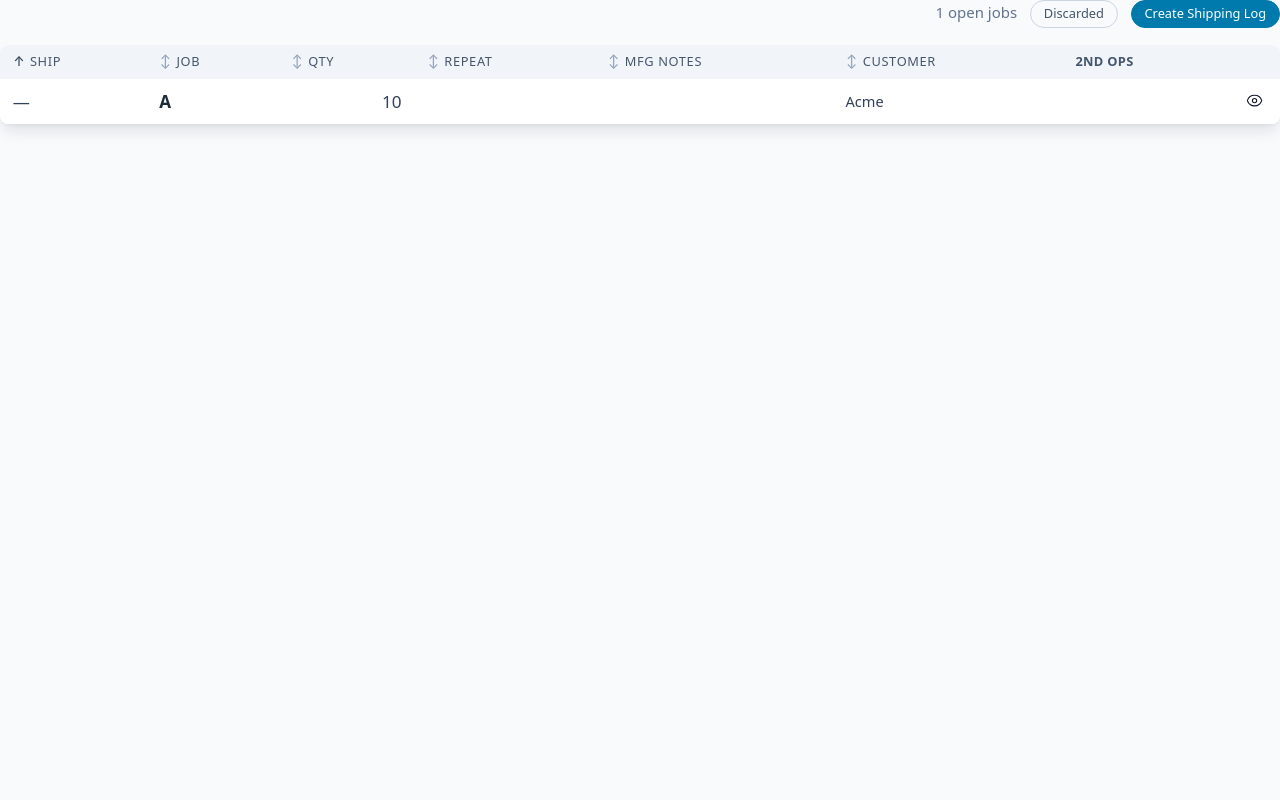
Test: ShippingView — Create Shipping Log › opens the log modal, which loads its own candidates, and closes it again
The image size is (1280, 800).
Click the button with test id "create-shipping-log-btn". click: (1205,14)
box: [1131, 0, 1279, 28]
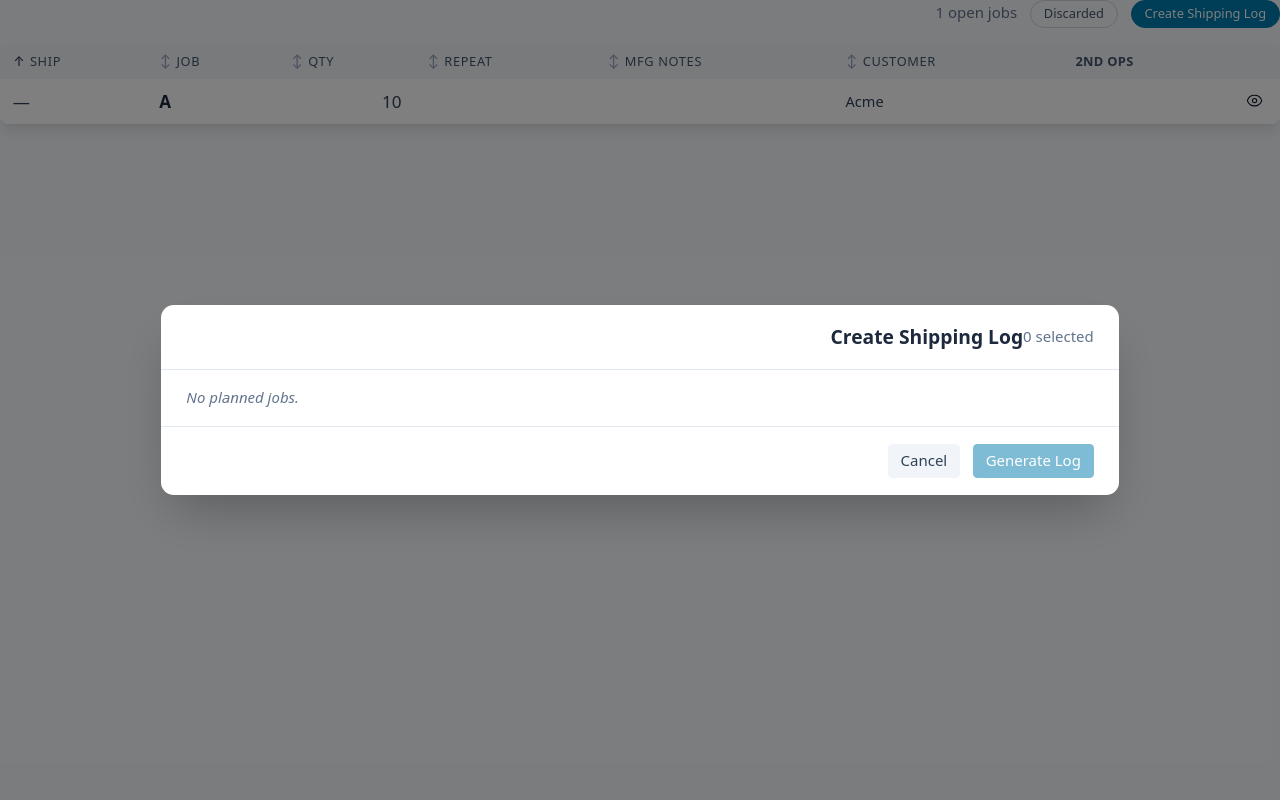
Expected: the element with test id "shipping-log-modal" is shown
Click the button with test id "shipping-log-cancel". click: (924,461)
box: [888, 444, 960, 478]
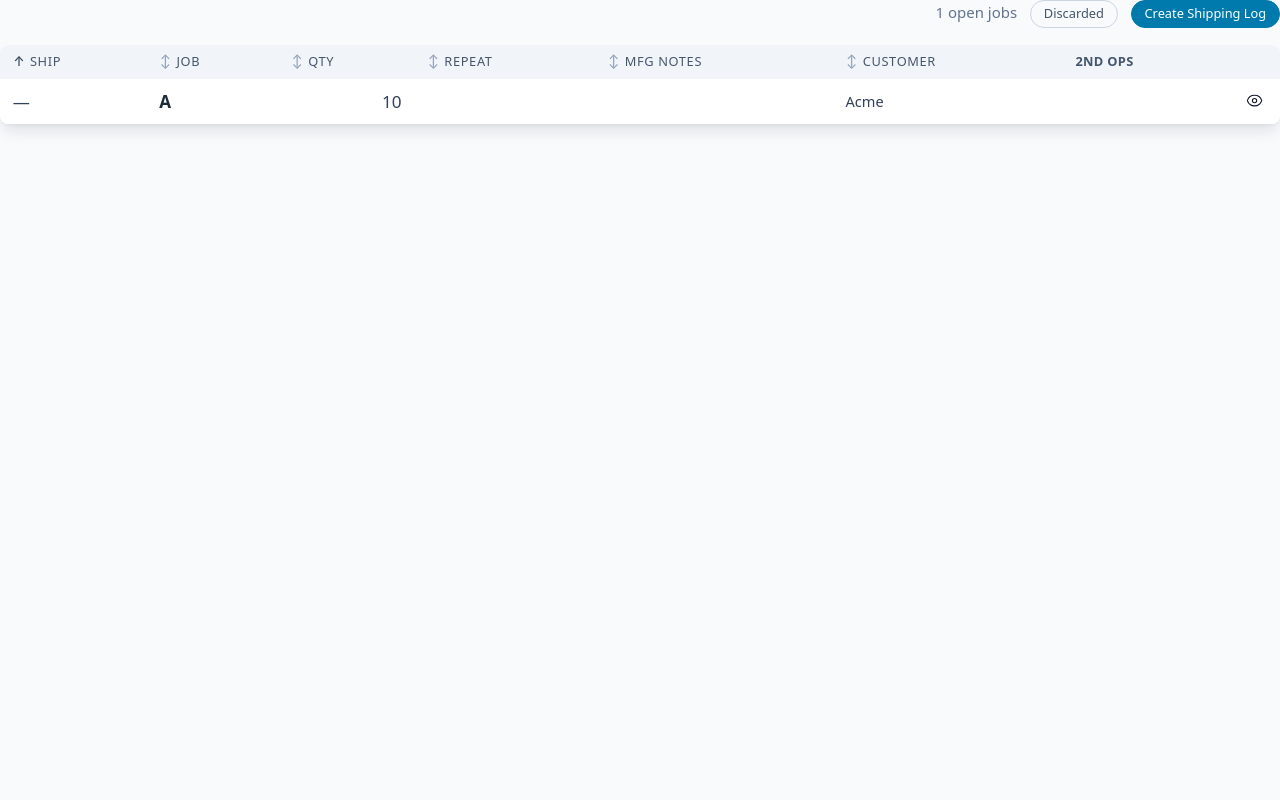
Expected: the element with test id "shipping-log-modal" is gone
